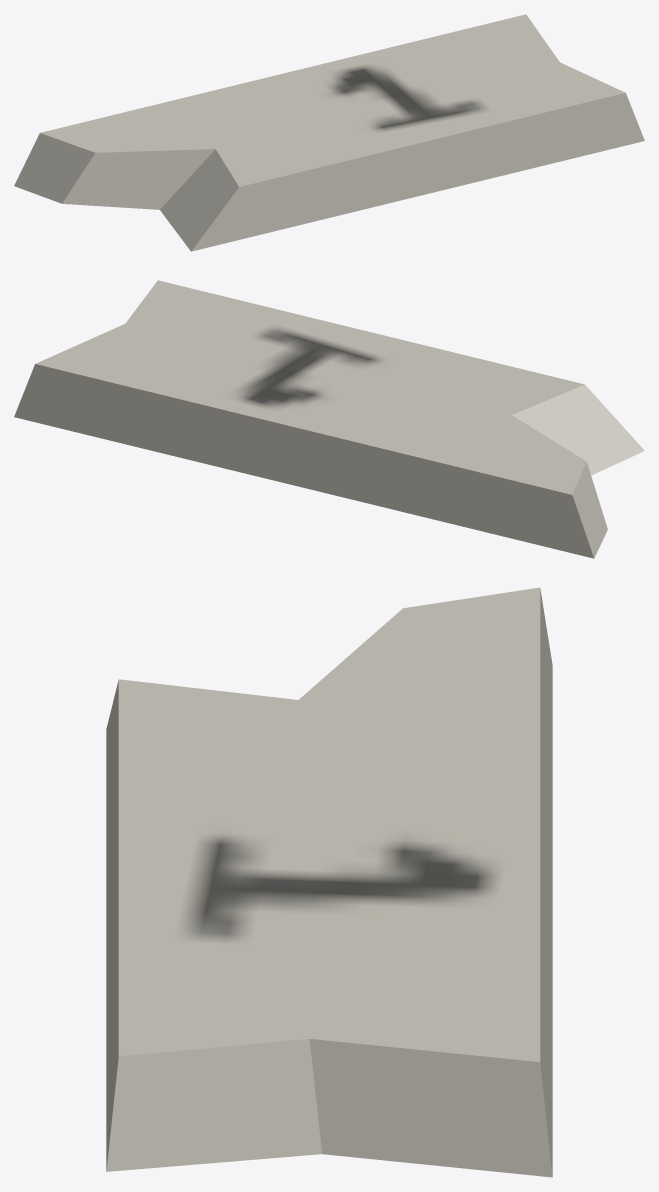
Rendered from SM_Sign_Label_04.fbx.
The picture shows the model from 3 angles, top to bottom: view 1: azimuth 30°, elevation 25°; view 2: azimuth 150°, elevation 25°; view 3: azimuth 270°, elevation 25°; orthographic projection. The views are drawn at different scales.
Parts seen in each view (by area): view 1: SM_Sign_Label_04; view 2: SM_Sign_Label_04; view 3: SM_Sign_Label_04.
Boxes of the visible parts, bbox=[...] form: SM_Sign_Label_04: bbox=[14, 14, 644, 251]; SM_Sign_Label_04: bbox=[14, 280, 644, 558]; SM_Sign_Label_04: bbox=[106, 587, 552, 1177].
Bounding box in the file's own units: 12 × 1.09 × 4.41.
